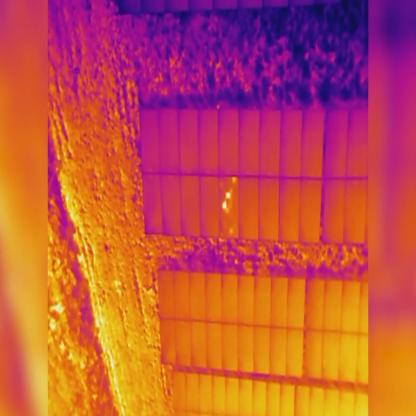panel: (256, 107, 283, 177), (215, 173, 243, 240), (300, 107, 326, 179), (216, 107, 243, 176), (254, 174, 280, 244), (235, 107, 261, 176), (176, 106, 202, 175), (279, 106, 303, 180), (298, 175, 324, 243), (276, 176, 302, 244), (196, 108, 222, 176), (136, 105, 161, 175), (235, 175, 261, 242), (197, 172, 223, 239), (156, 107, 181, 175), (158, 172, 184, 237), (177, 172, 202, 238), (140, 171, 164, 236)
